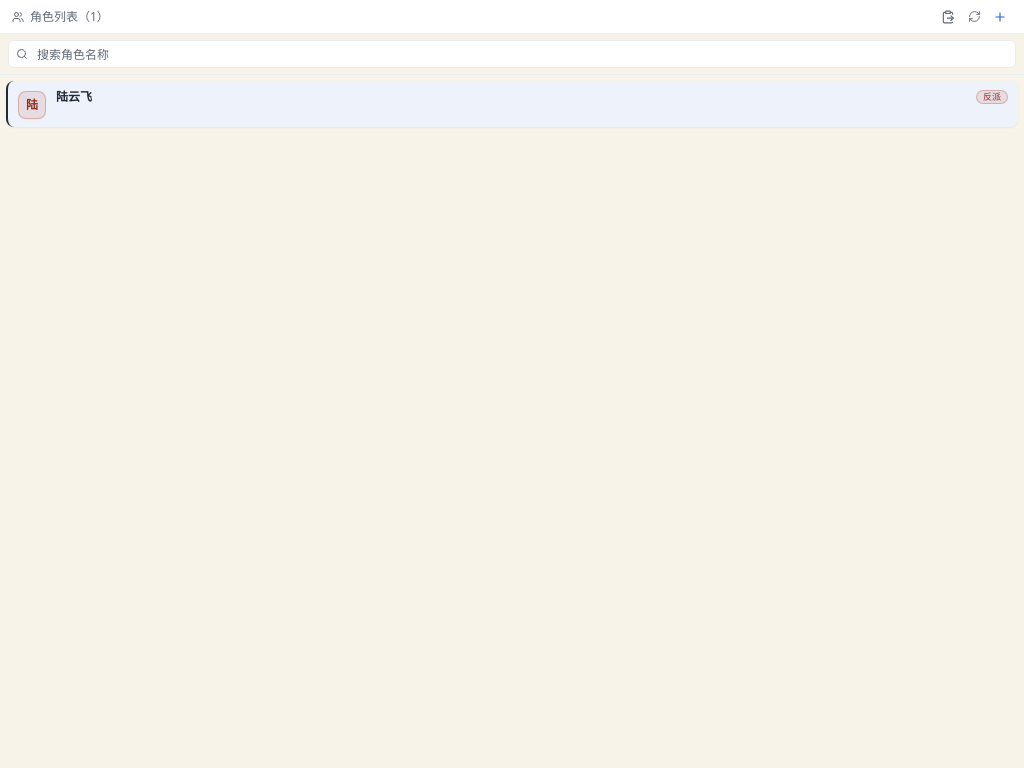
it: new character creation flow › creates an unassigned character when no role is chosen and opens it for editing
Click the button named "新建角色" at (1000, 16), box x1=988 y1=4 x2=1012 y2=28
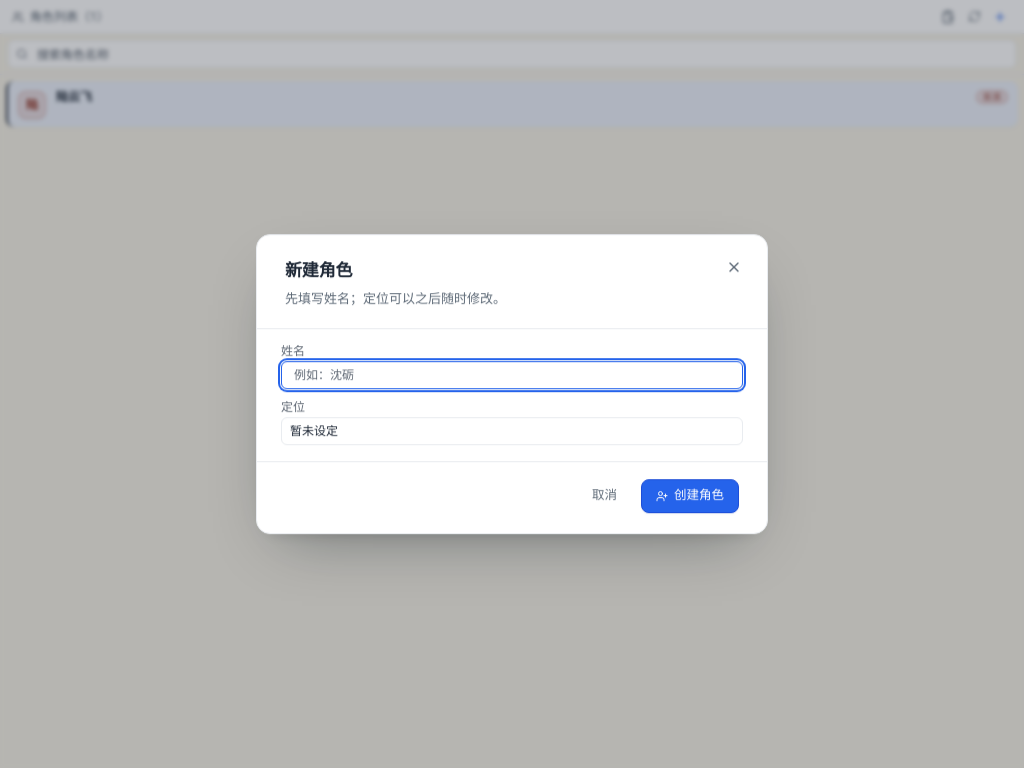
Type "沈砺" into the field named "角色姓名" at (512, 375), box x1=281 y1=361 x2=743 y2=389
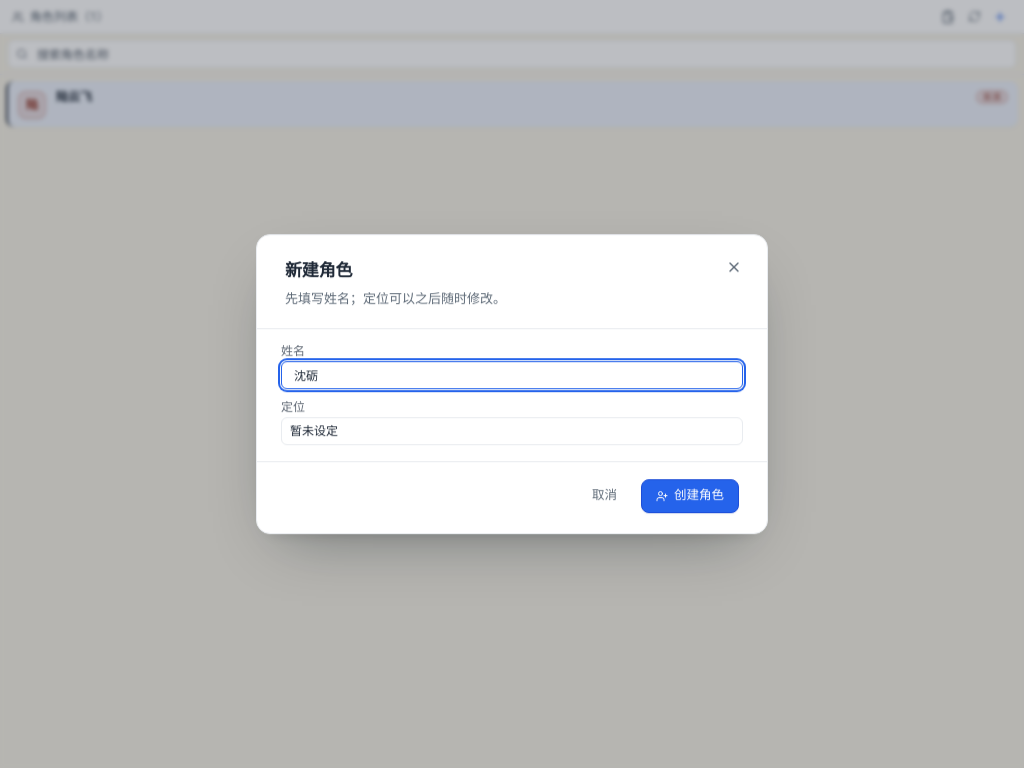
Click the button "创建角色" at (690, 496), box x1=641 y1=479 x2=739 y2=513
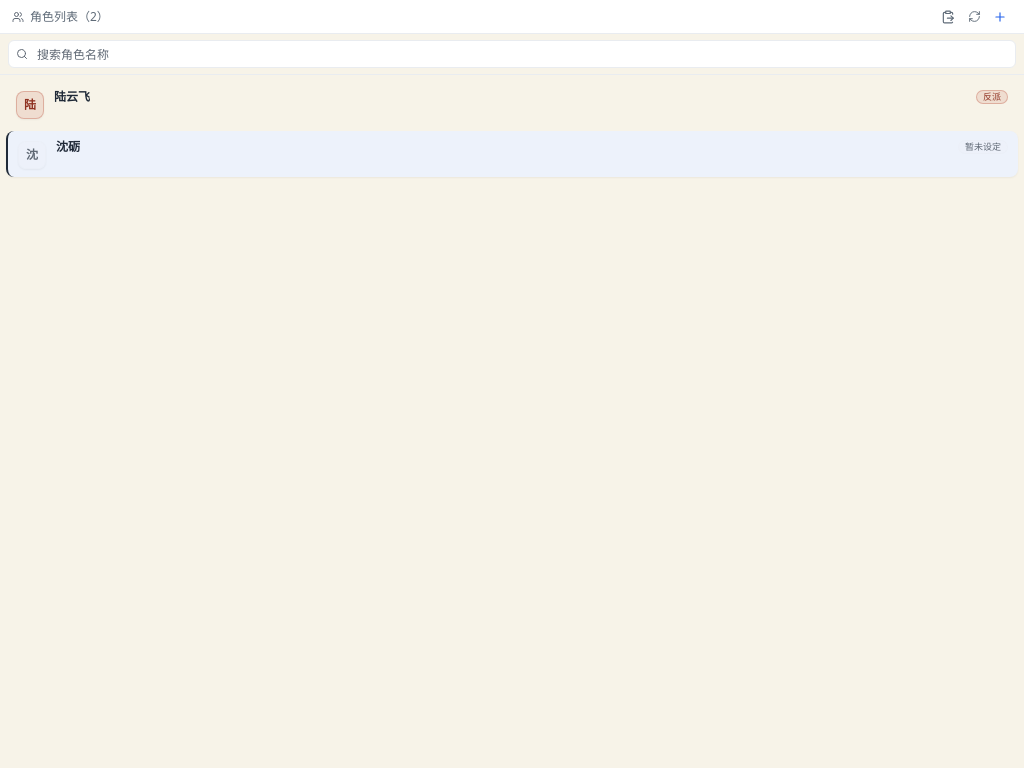
Check: the text "沈砺" is shown, box x1=56 y1=139 x2=80 y2=155
